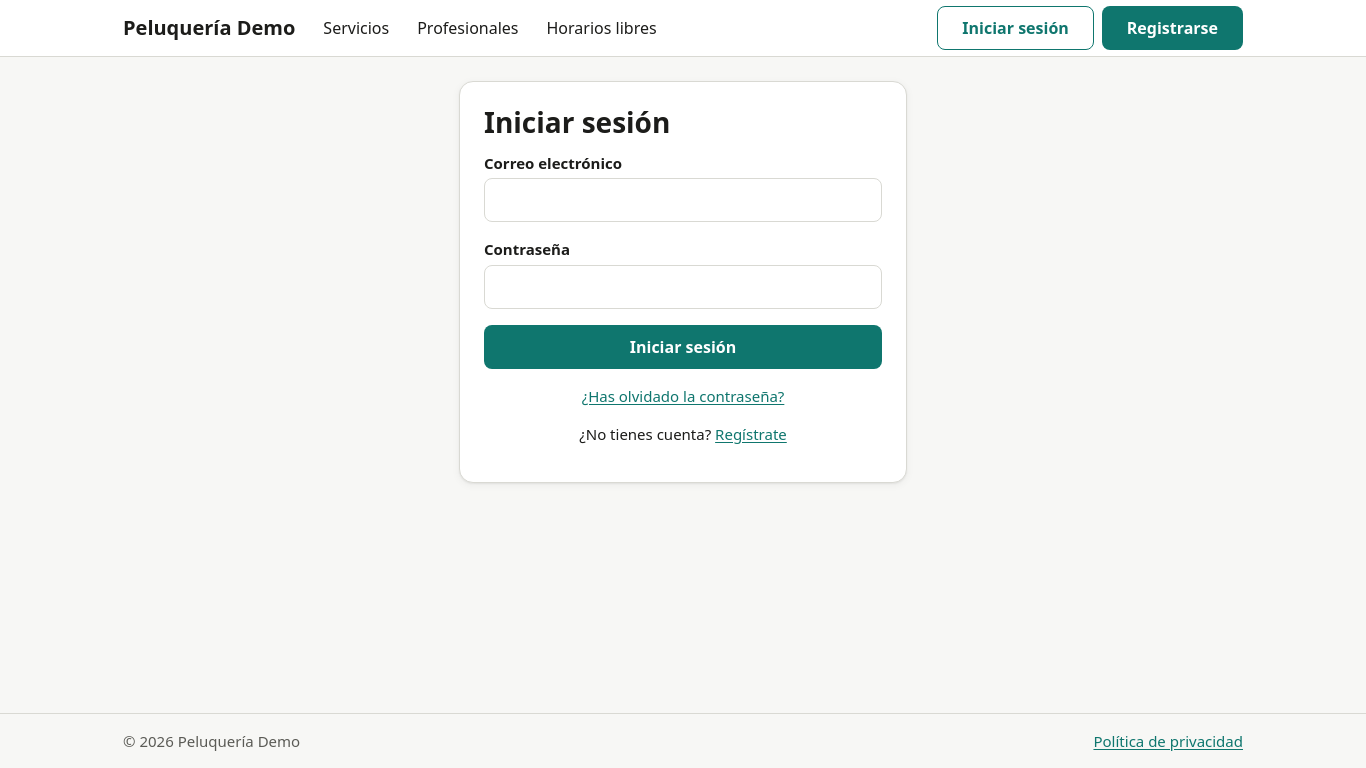
login (CU-002) › con credenciales correctas vuelve a la página de la que venía
Type "marta@demo.invalid" into the field labelled "Correo electrónico" at (683, 200), box [484,178,882,222]
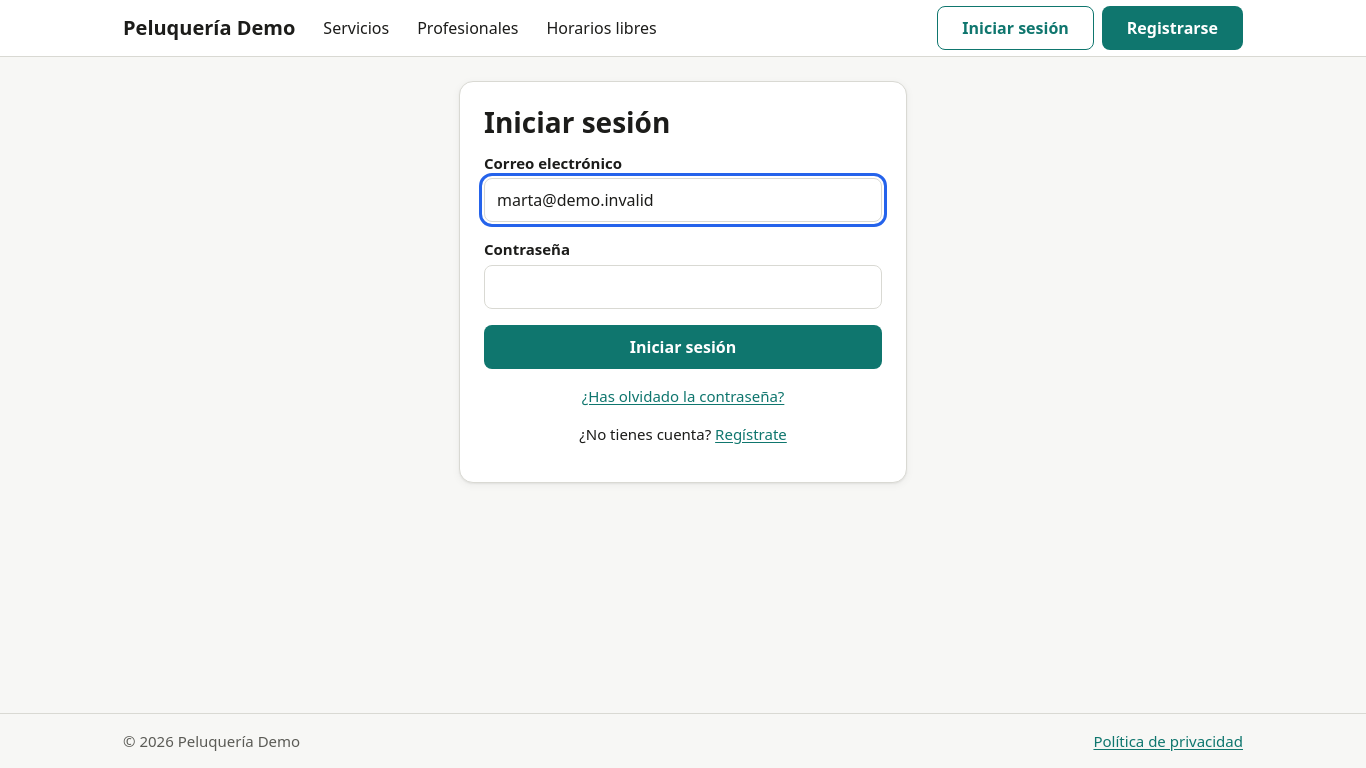
Type "una frase larga" into the password field labelled "Contraseña" at (683, 287), box [484,265,882,309]
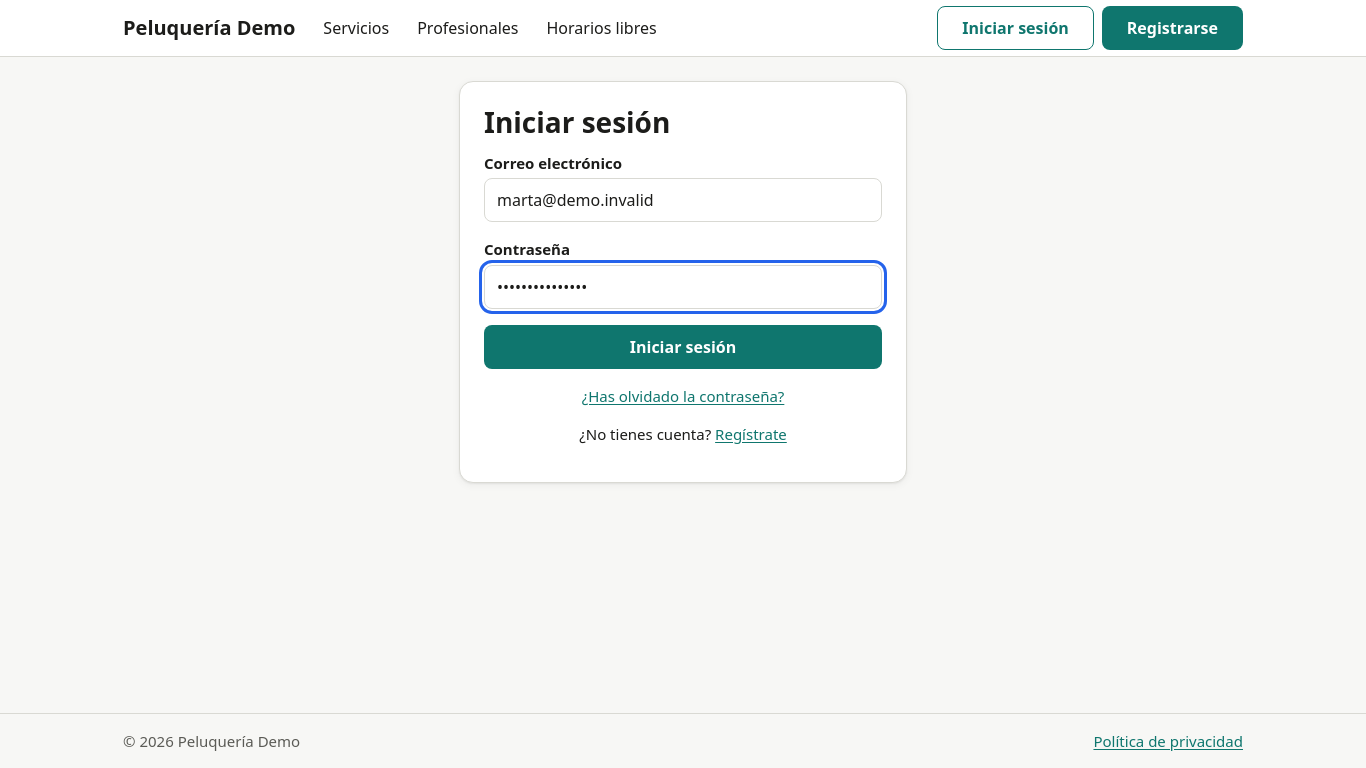
Click the button "Iniciar sesión" at (683, 347), box [484,325,882,369]
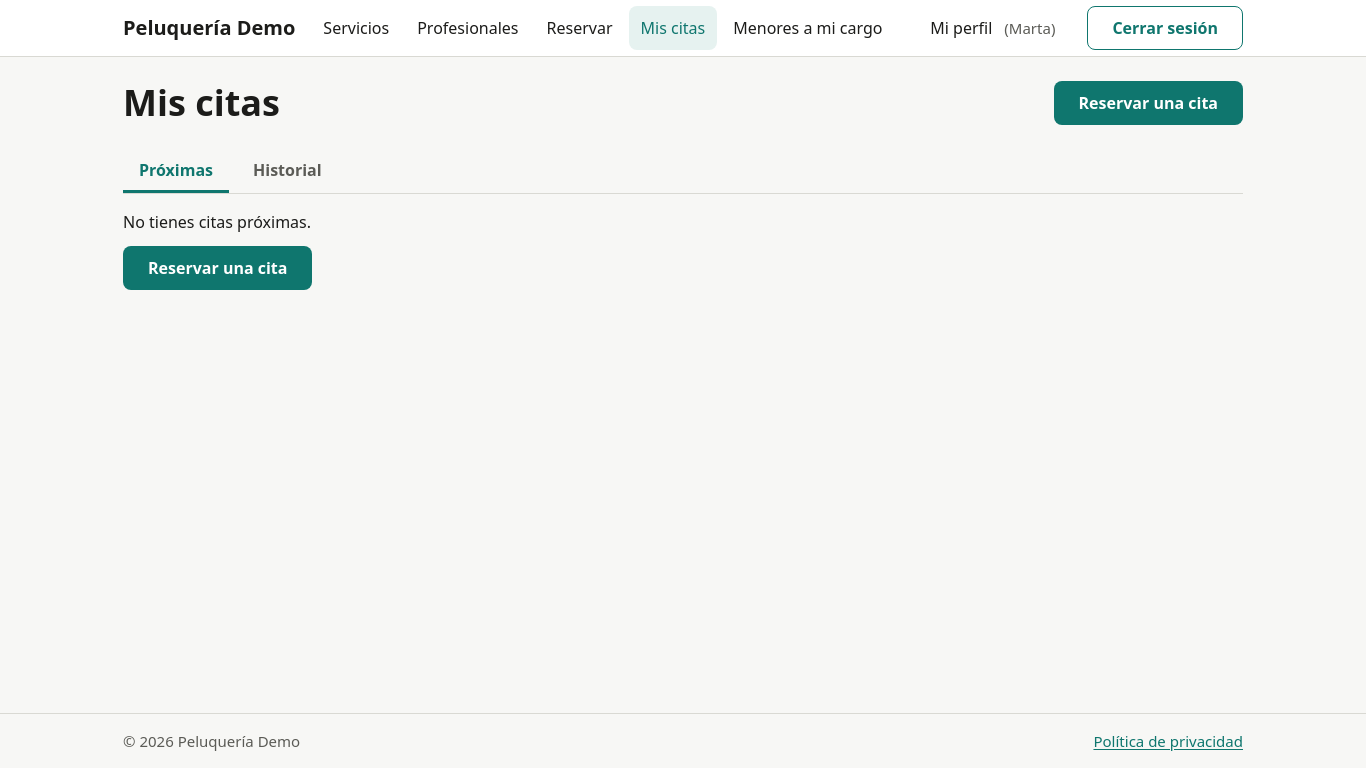
Check: the heading "Mis citas" is shown, box [123,81,280,125]
